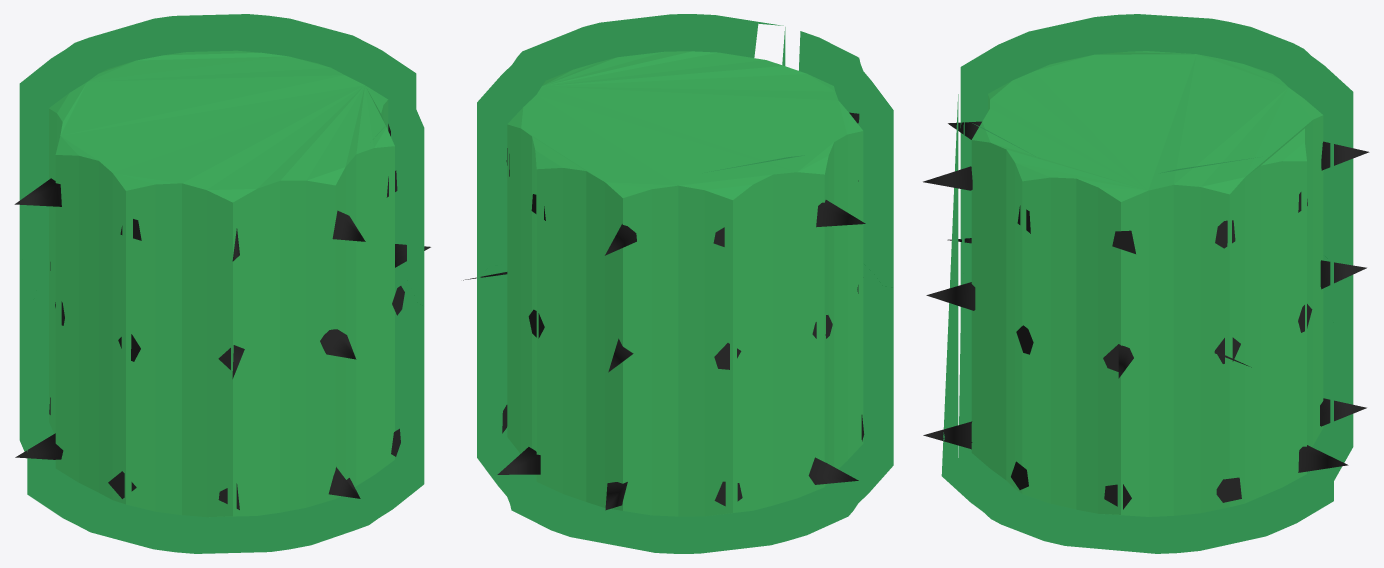
Rendered from cactus.glb.
The picture shows the model from 3 angles, left to right: view 1: azimuth 30°, elevation 25°; view 2: azimuth 150°, elevation 25°; view 3: azimuth 270°, elevation 25°; orthographic projection.
Parts seen in each view (by area): view 1: Cylinder, Cone.001; view 2: Cylinder, Cone.001; view 3: Cylinder, Cone.001.
Boxes of the visible parts, x1,y1,x2,y2 form: Cylinder: [19, 14, 424, 553]; Cone.001: [14, 124, 430, 509]; Cylinder: [477, 14, 893, 553]; Cone.001: [463, 112, 865, 510]; Cylinder: [941, 14, 1353, 553]; Cone.001: [923, 121, 1369, 509].
Size of the model in its own units: 3.6 by 3.4 by 3.59.
